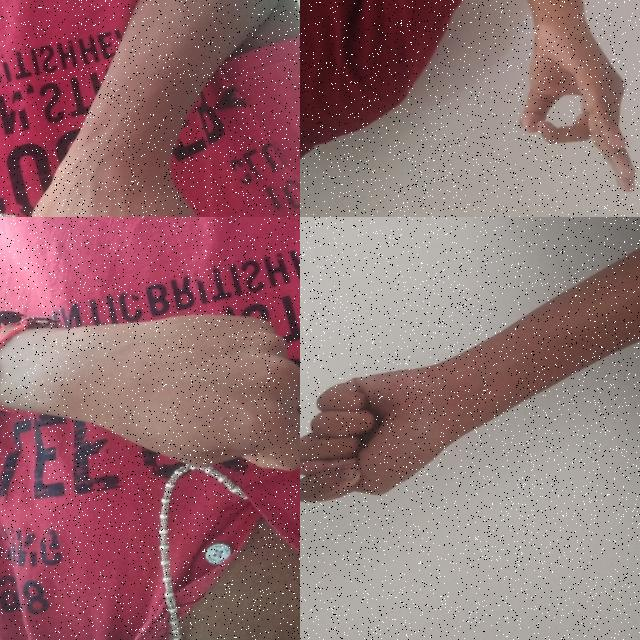Dulya: (40, 248, 300, 531), (300, 335, 499, 518), (0, 82, 243, 217)
Okay: (480, 0, 640, 217)
